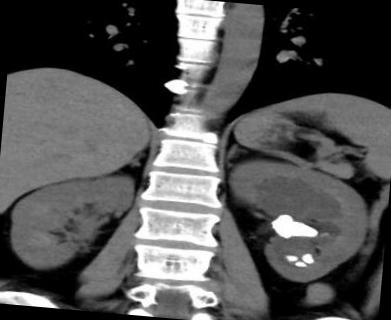Tas_Var: (269, 212, 322, 245), (300, 252, 316, 265), (284, 252, 300, 262), (293, 260, 307, 268)
